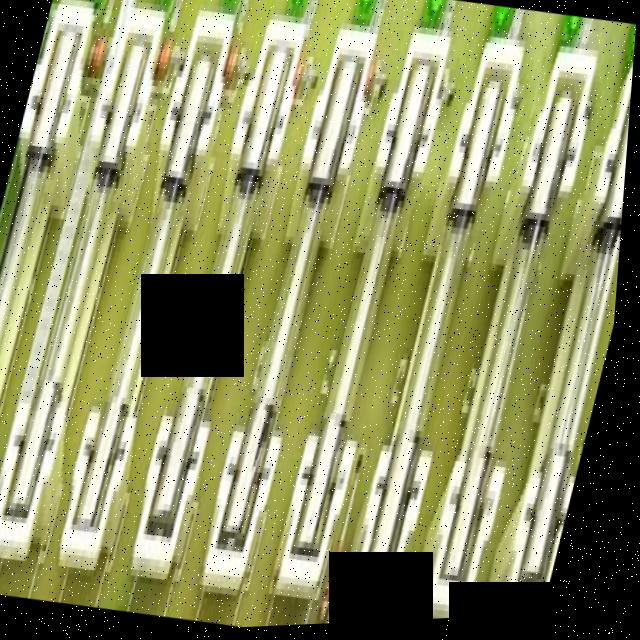fuse F1: (360, 44, 526, 589), (286, 37, 451, 584), (211, 41, 374, 585), (143, 28, 303, 560), (435, 84, 593, 600), (74, 31, 227, 551), (6, 27, 158, 533), (506, 81, 634, 621), (0, 0, 95, 523)
resistor IR1: (319, 495, 366, 628)
